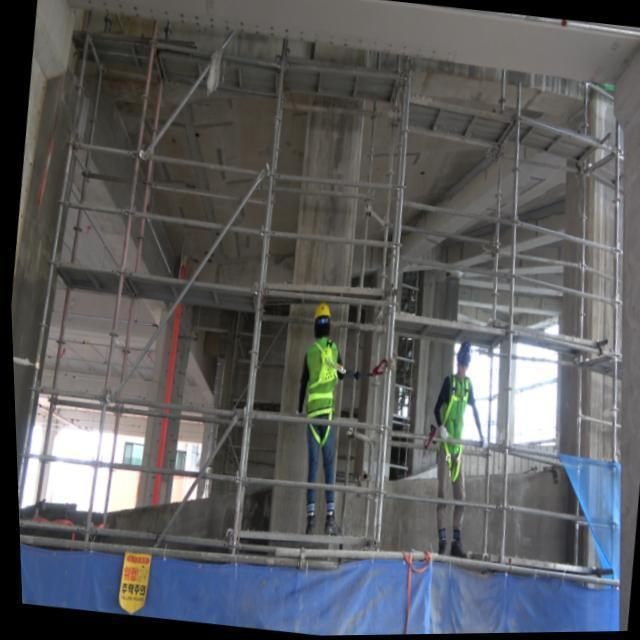safety belt: (430, 380, 476, 484), (308, 341, 341, 455)
